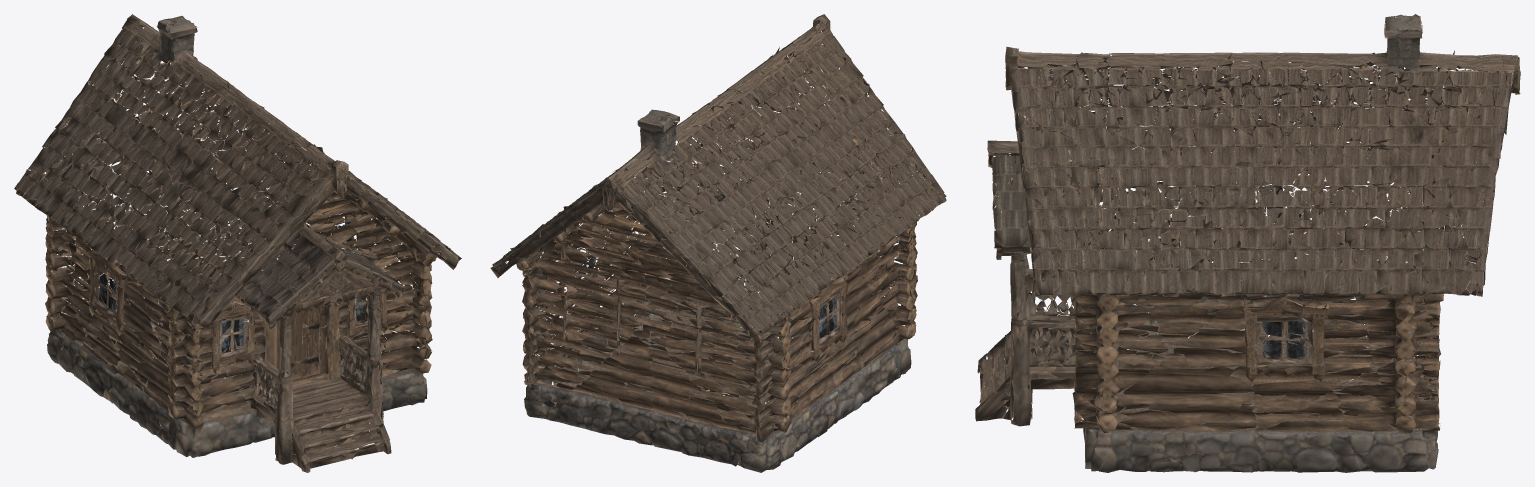
Rendered from chata_z_bali.glb.
The picture shows the model from 3 angles, left to right: view 1: azimuth 30°, elevation 25°; view 2: azimuth 150°, elevation 25°; view 3: azimuth 270°, elevation 25°; orthographic projection. The views are drawn at different scales.
Visible parts, largest first — view 1: Mesh_0; view 2: Mesh_0; view 3: Mesh_0.
Boxes of the visible parts, left/top/right/bottom form: Mesh_0: left=14, top=14, right=461, bottom=472; Mesh_0: left=490, top=14, right=946, bottom=472; Mesh_0: left=975, top=14, right=1520, bottom=472.
Bounding box in the file's own units: 1.31 × 1.46 × 1.9.
1 material, 1 textured.
